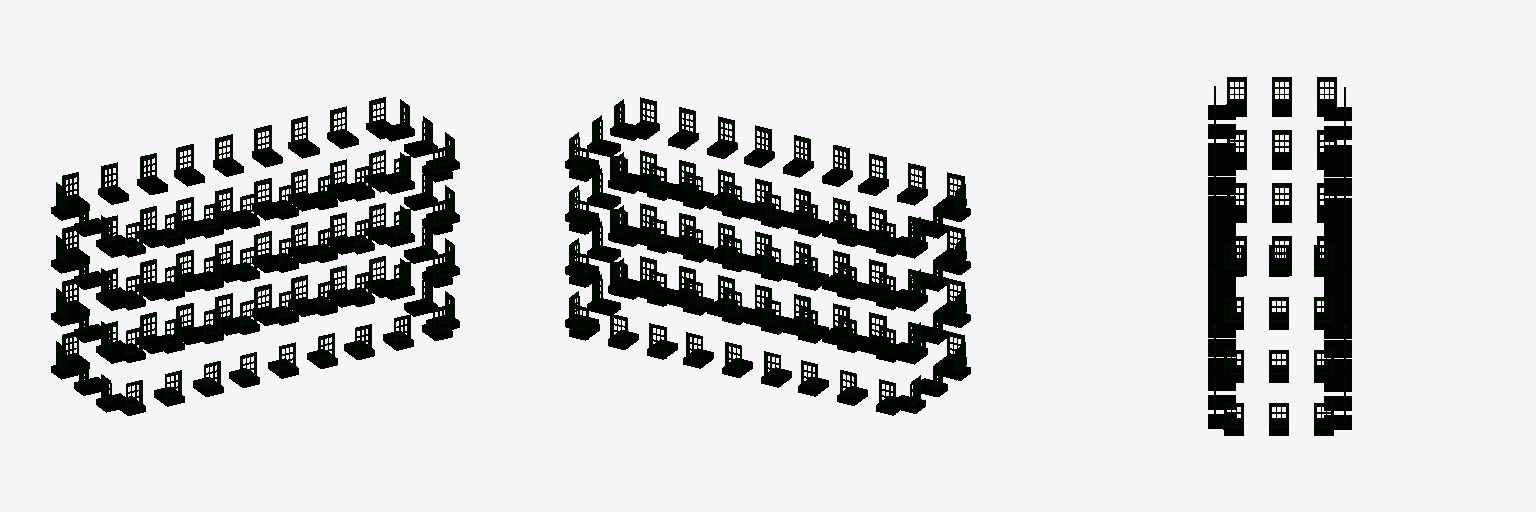
Rendered from ramy.obj.
The picture shows the model from 3 angles: view 1: azimuth 30°, elevation 25°; view 2: azimuth 150°, elevation 25°; view 3: azimuth 270°, elevation 25°; orthographic projection.
Parts seen in each view (by area): view 1: building3_ramy_Cube.011_Cube.003; view 2: building3_ramy_Cube.011_Cube.003; view 3: building3_ramy_Cube.011_Cube.003.
Part boxes in pixels (x1,y1,x2,y2): building3_ramy_Cube.011_Cube.003: (51,97,459,415); building3_ramy_Cube.011_Cube.003: (565,97,970,415); building3_ramy_Cube.011_Cube.003: (1208,77,1351,435).
Size of the model in its own units: 17.5 by 9.03 by 6.17.